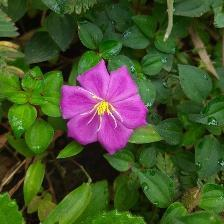malabar melastome: (61, 59, 151, 156)
